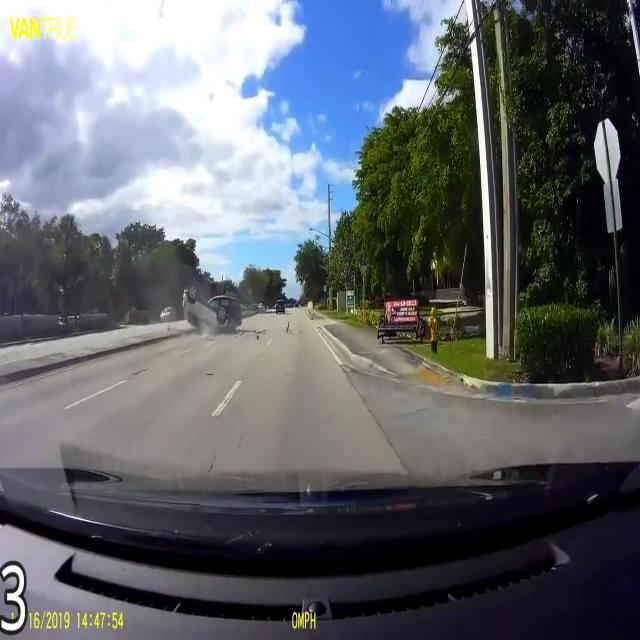accident: (172, 286, 237, 338)
